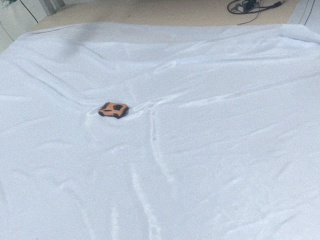toy_car: (98, 101, 129, 118)
